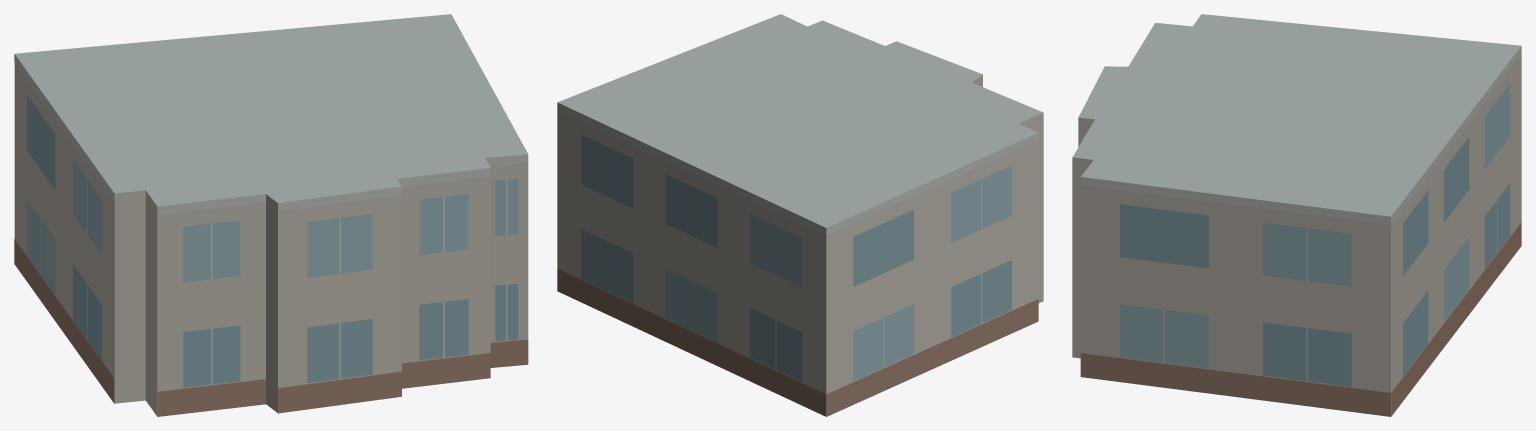
File: survey-upis-32878550.glb
3 views of the same model, side by side, from view 1: azimuth 30°, elevation 25°; view 2: azimuth 150°, elevation 25°; view 3: azimuth 270°, elevation 25° (orthographic). The views are drawn at different scales.
Parts seen in each view (by area): view 1: survey-upis-32878550.tmp; view 2: survey-upis-32878550.tmp; view 3: survey-upis-32878550.tmp.
Boxes of the visible parts, x1,y1,x2,y2 form: survey-upis-32878550.tmp: [14, 14, 528, 416]; survey-upis-32878550.tmp: [557, 14, 1043, 416]; survey-upis-32878550.tmp: [1072, 14, 1521, 416].
Size of the model in its own units: 13.26 by 6.1 by 12.42.
